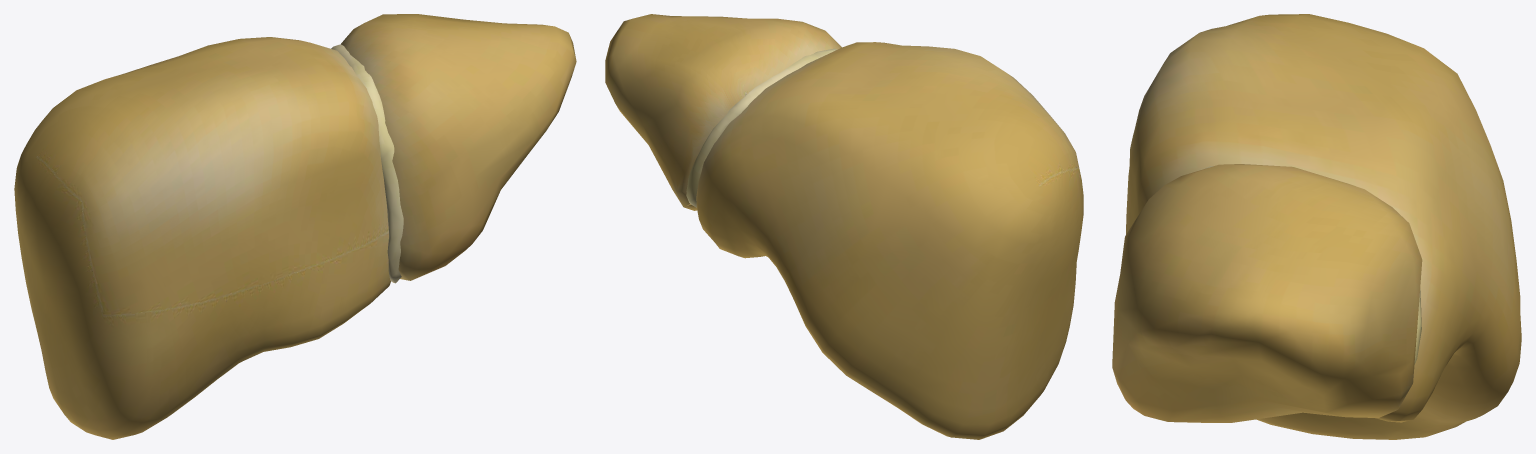
Rendered from LiverFatty1.glb.
The picture shows the model from 3 angles, left to right: view 1: azimuth 30°, elevation 25°; view 2: azimuth 150°, elevation 25°; view 3: azimuth 270°, elevation 25°; orthographic projection. The views are drawn at different scales.
Parts seen in each view (by area): view 1: right lobe, left lobe, ligament; view 2: right lobe, left lobe, ligament; view 3: right lobe, left lobe.
Boxes of the visible parts, <box> form: right lobe: <box>14,37,390,439</box>; left lobe: <box>340,14,576,280</box>; ligament: <box>331,44,403,283</box>; right lobe: <box>696,42,1083,439</box>; left lobe: <box>605,14,841,210</box>; ligament: <box>686,48,837,207</box>; right lobe: <box>1126,14,1521,439</box>; left lobe: <box>1112,164,1422,422</box>.
Bounding box in the file's own units: 0.4813 × 0.3148 × 0.2601.
3 materials, 3 textured.
